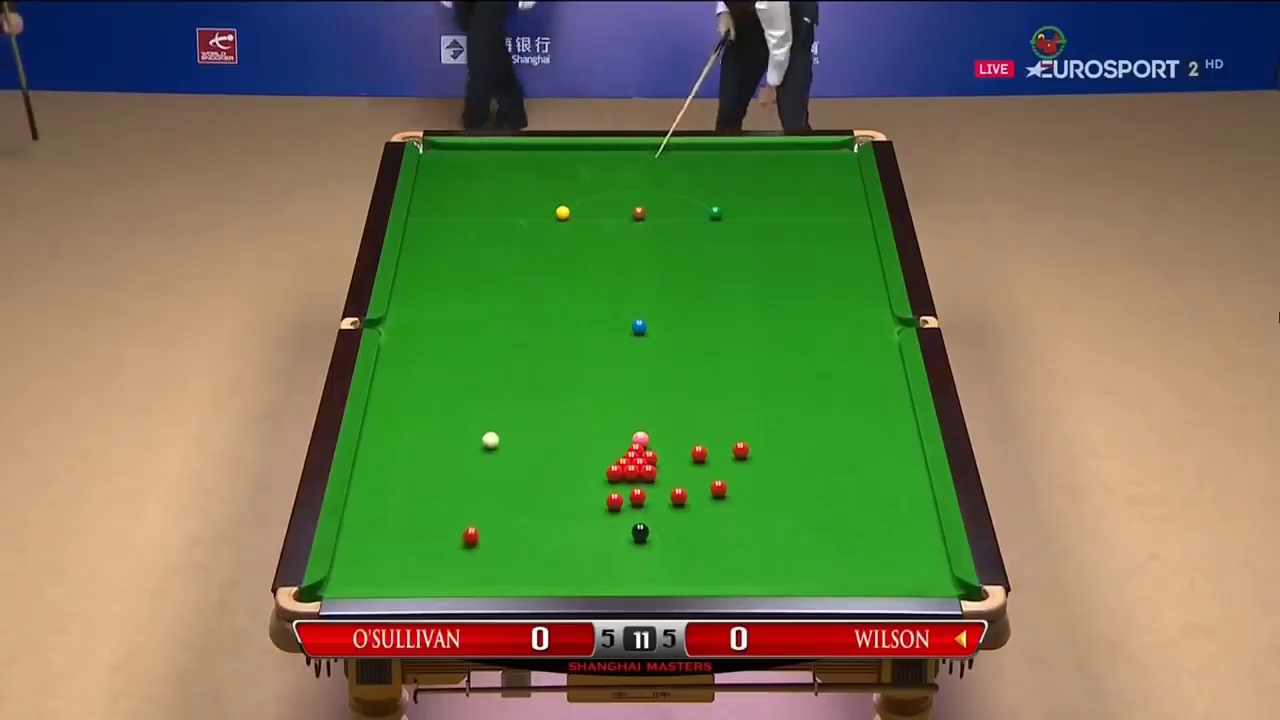ball: (476, 431, 502, 451), (629, 522, 650, 543), (627, 485, 646, 508), (708, 480, 727, 500), (671, 485, 690, 505), (551, 206, 573, 223), (604, 492, 622, 512), (687, 445, 707, 463), (605, 465, 624, 483), (461, 528, 479, 546), (733, 442, 751, 460), (628, 317, 647, 333), (707, 206, 721, 222), (633, 205, 646, 221)
